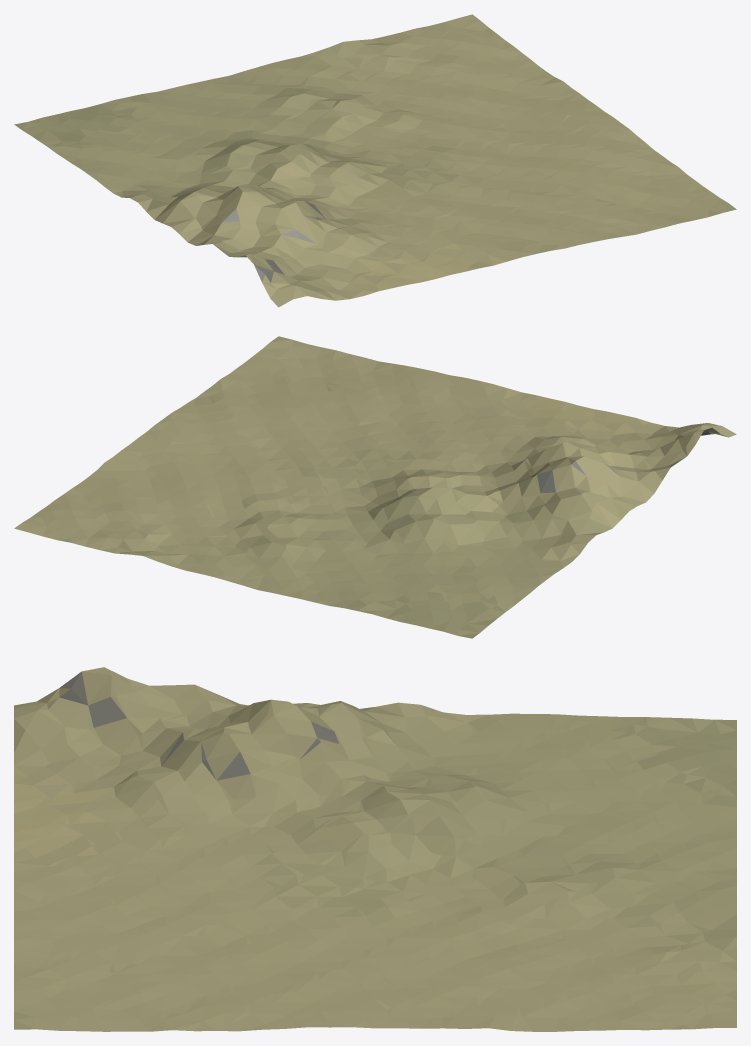
File: Ground_3_-1.glb
3 views of the same model, one above another, from view 1: azimuth 30°, elevation 25°; view 2: azimuth 150°, elevation 25°; view 3: azimuth 270°, elevation 25° (orthographic). The views are drawn at different scales.
Parts seen in each view (by area): view 1: Ground_3_-1; view 2: Ground_3_-1; view 3: Ground_3_-1.
Part boxes in pixels (left/top/right/bottom): Ground_3_-1: left=14, top=14, right=736, bottom=307; Ground_3_-1: left=14, top=336, right=736, bottom=638; Ground_3_-1: left=14, top=667, right=736, bottom=1031.
Size of the model in its own units: 768 by 76.8 by 768.
